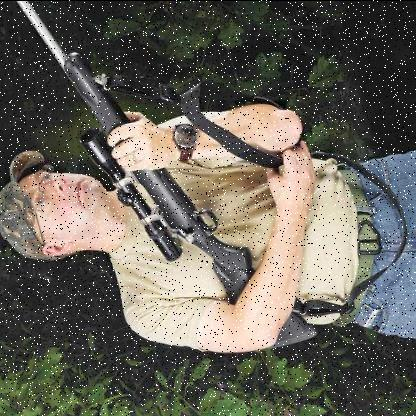rifle: (0, 1, 322, 351)
